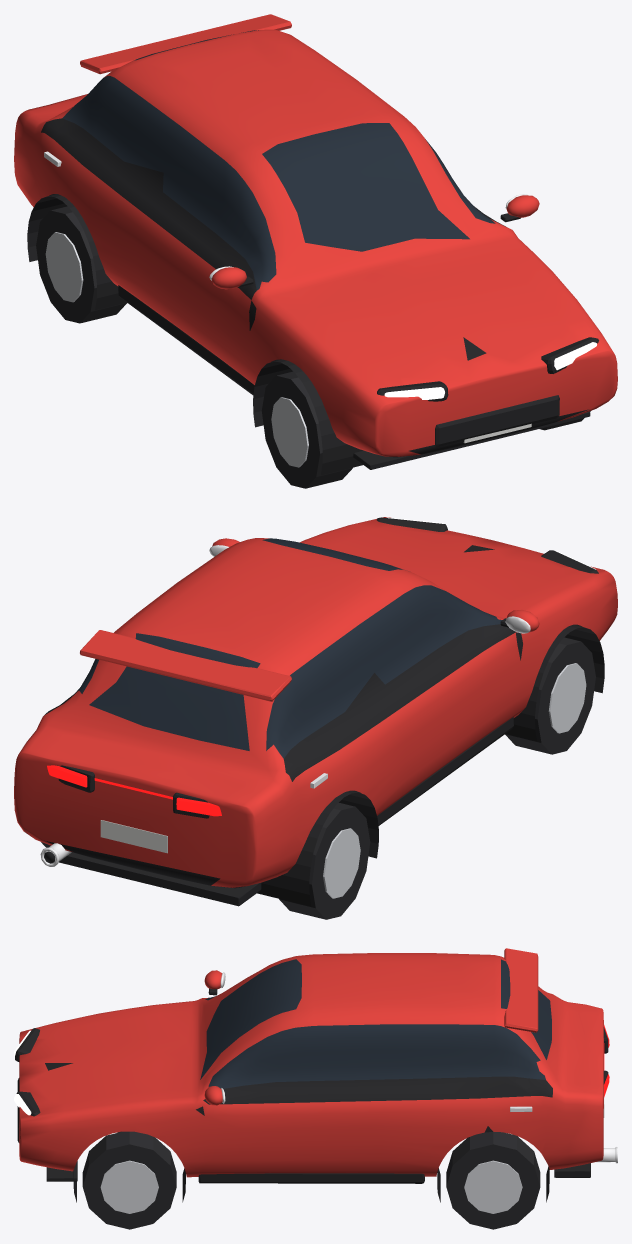
Rendered from kestrel_lod.glb.
The picture shows the model from 3 angles, top to bottom: view 1: azimuth 30°, elevation 25°; view 2: azimuth 150°, elevation 25°; view 3: azimuth 270°, elevation 25°; orthographic projection. The views are drawn at different scales.
Parts seen in each view (by area): view 1: body, wheel_fr, wheel_rr; view 2: body, wheel_rr, wheel_fr; view 3: body, wheel_fl, wheel_rl.
Part boxes in pixels (x1,y1,x2,y2): body: (14, 14, 617, 475); wheel_fr: (261, 371, 352, 488); wheel_rr: (36, 206, 126, 323); body: (14, 517, 617, 906); wheel_rr: (279, 802, 370, 919); wheel_fr: (505, 637, 595, 754); body: (14, 948, 617, 1202); wheel_fl: (82, 1131, 176, 1229); wheel_rl: (446, 1131, 540, 1229).
Bounding box in the file's own units: 2.12 × 1.52 × 4.24.
